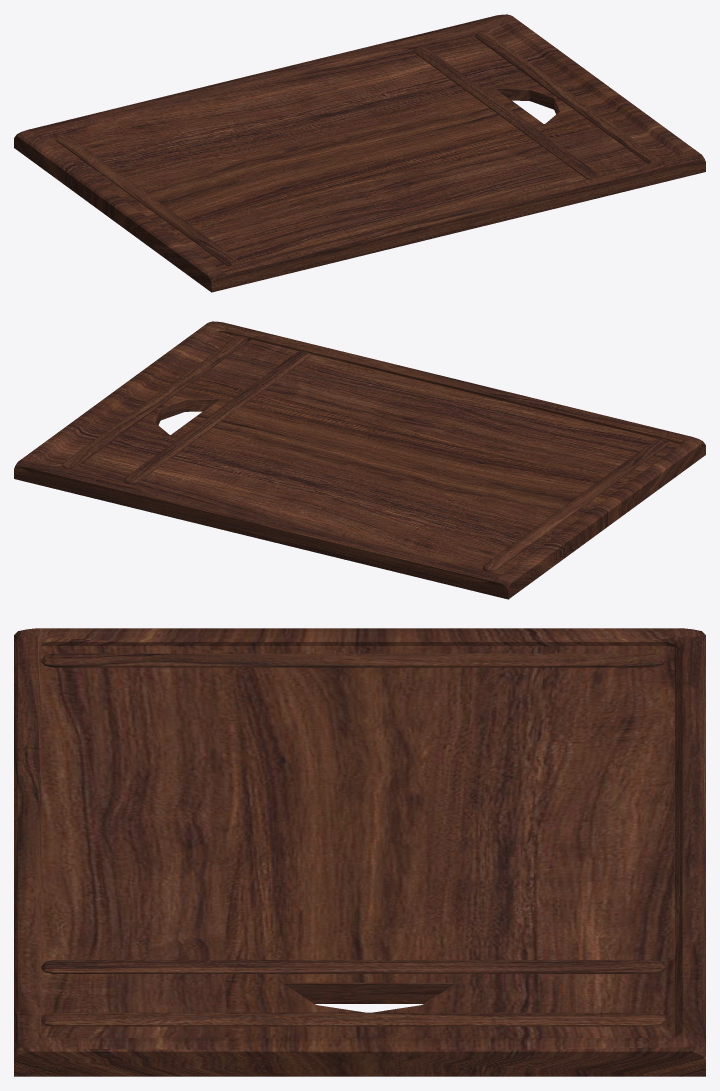
File: choppingboard2.fbx
3 renders of one model, top to bottom at view 1: azimuth 30°, elevation 25°; view 2: azimuth 150°, elevation 25°; view 3: azimuth 270°, elevation 25°, orthographic. The views are drawn at different scales.
Visible parts, largest first — view 1: ChoppingBoard; view 2: ChoppingBoard; view 3: ChoppingBoard.
Part boxes in pixels (left/top/right/bottom): ChoppingBoard: left=14, top=14, right=705, bottom=292; ChoppingBoard: left=14, top=321, right=705, bottom=599; ChoppingBoard: left=14, top=628, right=705, bottom=1076.
Bounding box in the file's own units: 13 × 0.4143 × 9.
1 material, 1 textured.
